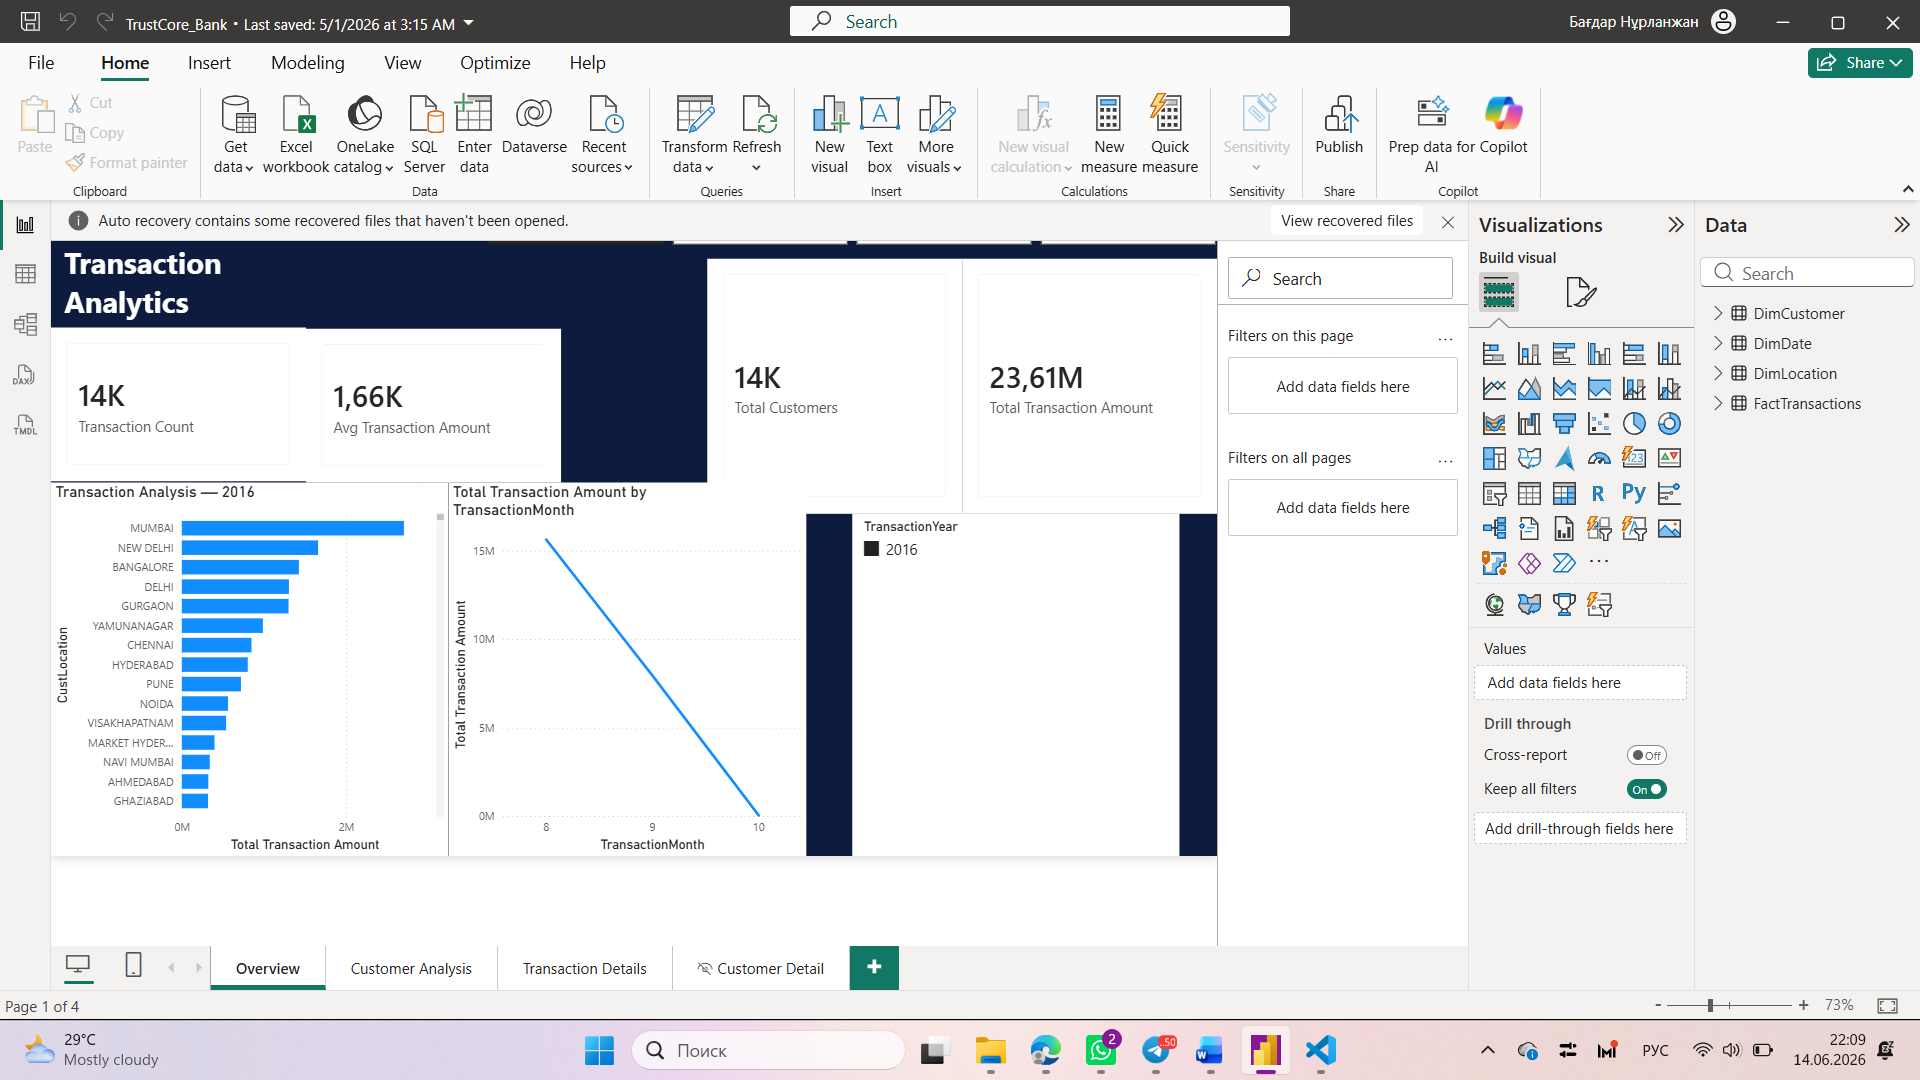

The dashboard page shown, as its layout file describes it:
{"tool":"powerbi","page":{"name":"Overview","canvas":[1280,720],"ordinal":0},"visuals":[{"type":"textbox","box":[10,0,280,280],"z":0},{"type":"cardVisual","fields":{"Data":["FactTransactions.Total Transaction Amount"]},"box":[1000.3,64.5,279.9,279.9],"z":1000},{"type":"cardVisual","fields":{"Data":["FactTransactions.Total Customers"]},"box":[720.4,64.5,279.9,279.9],"z":2000},{"type":"cardVisual","fields":{"Data":["FactTransactions.Avg Transaction Amount"]},"box":[279.9,141.3,279.9,168.8],"z":3000},{"type":"cardVisual","fields":{"Data":["FactTransactions.Transaction Count"]},"box":[0,140,279.9,168.8],"z":4000},{"type":"clusteredBarChart","fields":{"Category":["DimLocation.CustLocation"],"Y":["FactTransactions.Total Transaction Amount"]},"box":[0,310.1,436.4,410.3],"z":5000},{"type":"lineChart","fields":{"Category":["DimDate.TransactionMonth"],"Y":["FactTransactions.Total Transaction Amount"]},"box":[436.4,310.1,392.5,410.3],"z":6000},{"type":"pageNavigator","box":[480.3,0,800,49.4],"z":6001},{"type":"slicer","fields":{"Values":["DimDate.TransactionYear"]},"box":[880,343.8,359.1,376.2],"z":6002}]}

Visuals, with their boxes on the page's 1280x720 design canvas (x1, y1, x2, y2). These are canvas units, not pixel positions in the 1920x1080 screenshot, which may show the page scaled, cropped or inside an application window:
textbox: bbox(10, 0, 290, 280)
cardVisual - FactTransactions.Total Transaction Amount: bbox(1000, 64, 1280, 344)
cardVisual - FactTransactions.Total Customers: bbox(720, 64, 1000, 344)
cardVisual - FactTransactions.Avg Transaction Amount: bbox(280, 141, 560, 310)
cardVisual - FactTransactions.Transaction Count: bbox(0, 140, 280, 309)
clusteredBarChart - DimLocation.CustLocation x FactTransactions.Total Transaction Amount: bbox(0, 310, 436, 720)
lineChart - DimDate.TransactionMonth x FactTransactions.Total Transaction Amount: bbox(436, 310, 829, 720)
pageNavigator: bbox(480, 0, 1280, 49)
slicer - DimDate.TransactionYear: bbox(880, 344, 1239, 720)
